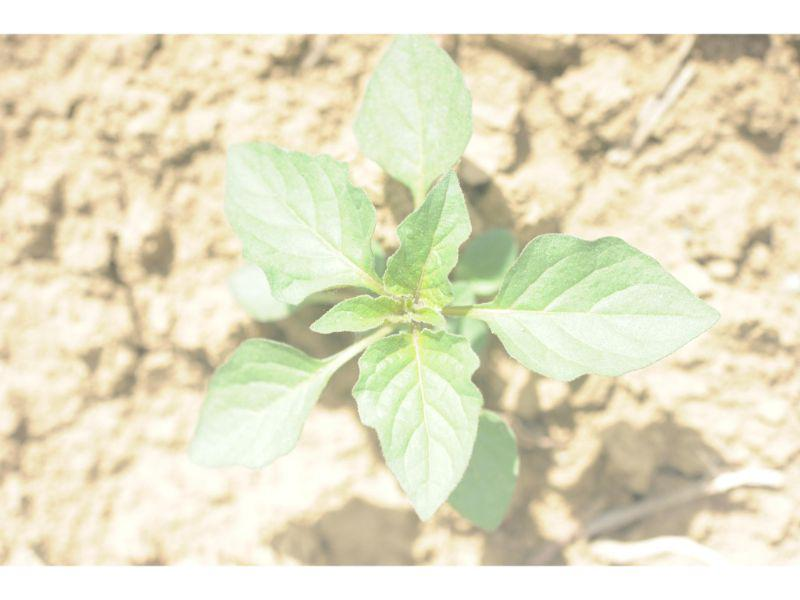nightshade: (182, 33, 720, 533)
